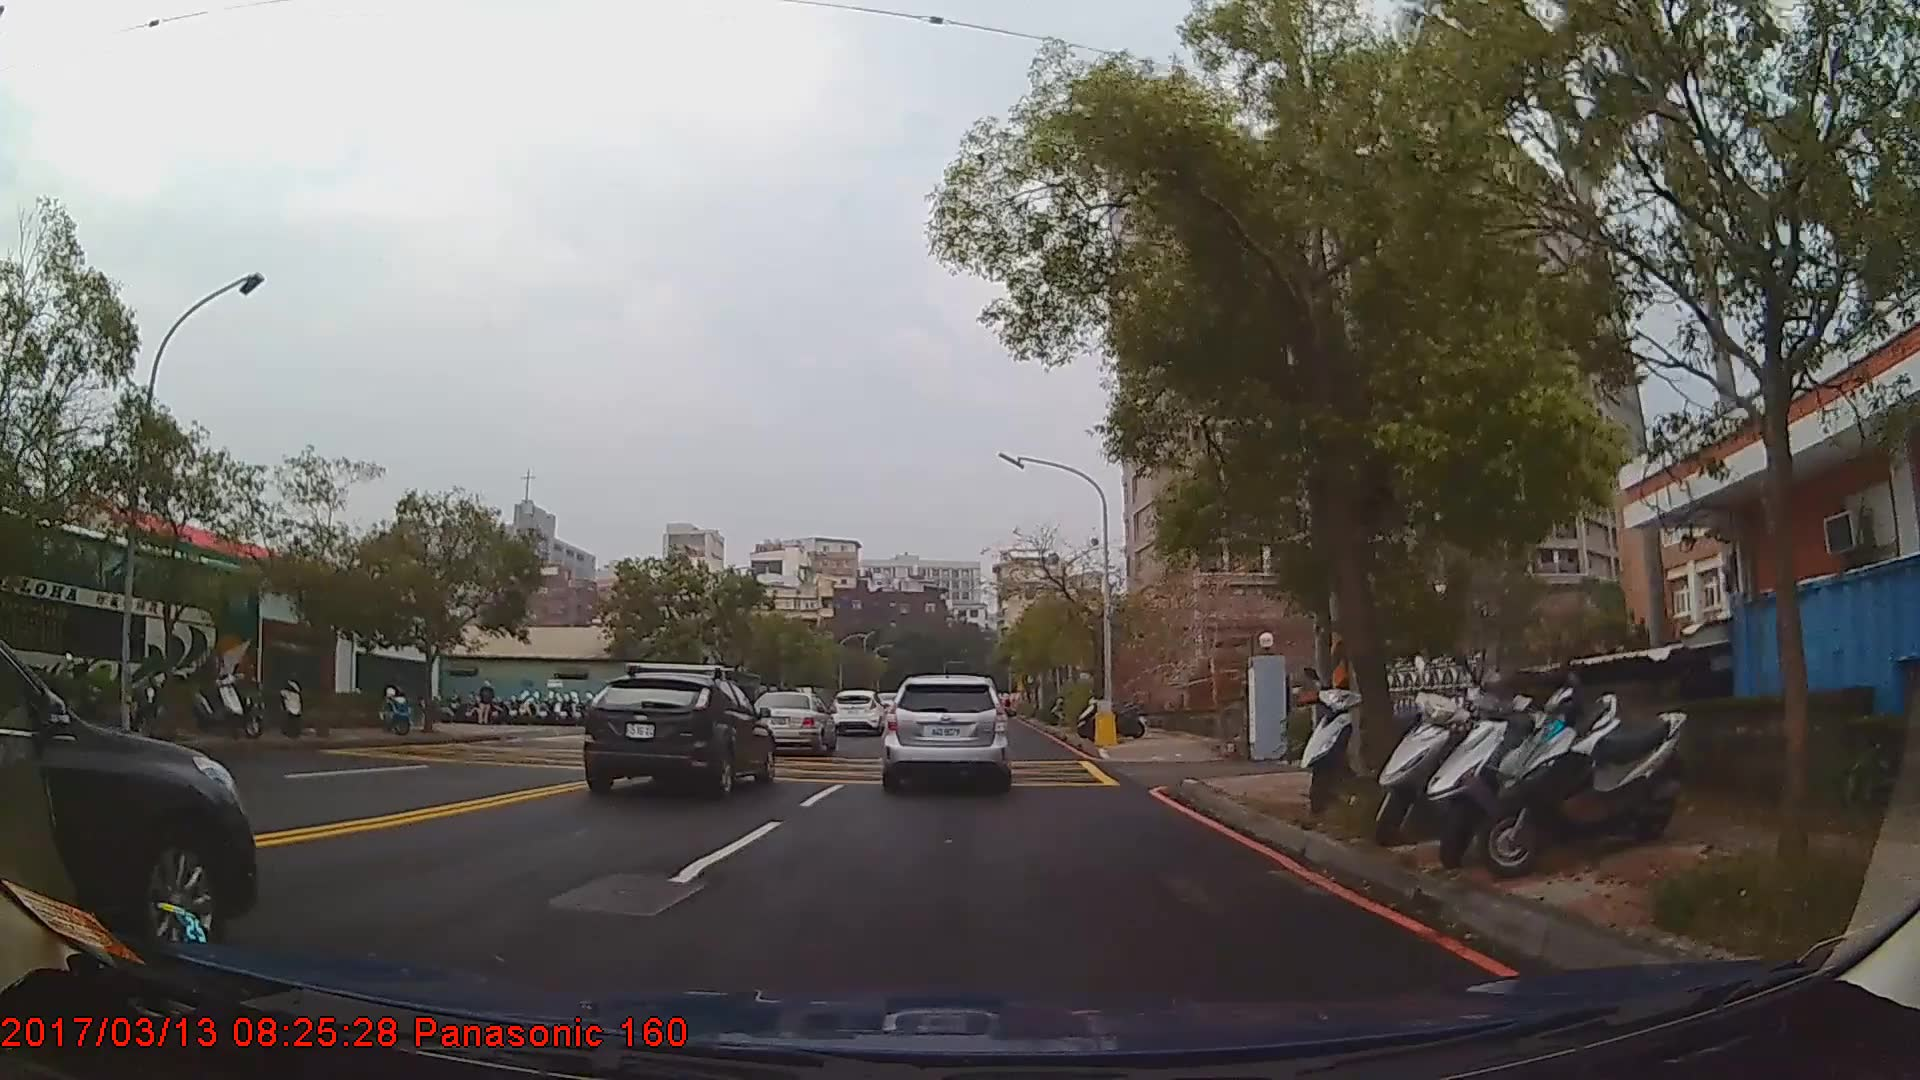vehicle: (0, 626, 257, 953), (0, 498, 256, 735), (580, 669, 773, 798), (884, 674, 1007, 789), (748, 688, 835, 754), (829, 688, 886, 735)
